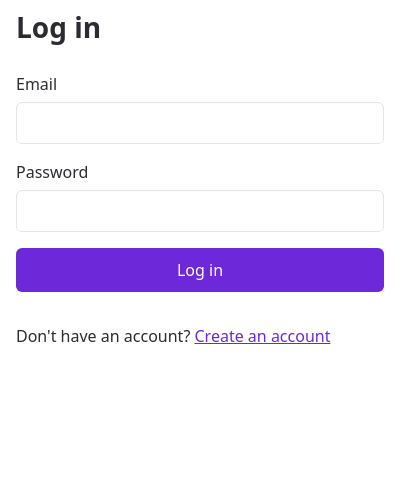
LoginPage › shows the backend error message and a resend link when login fails with an unverified email
Type "test@example.com" into the field labelled "Email".
click(200, 123); type("test@example.com")  # box [16,102,384,144]
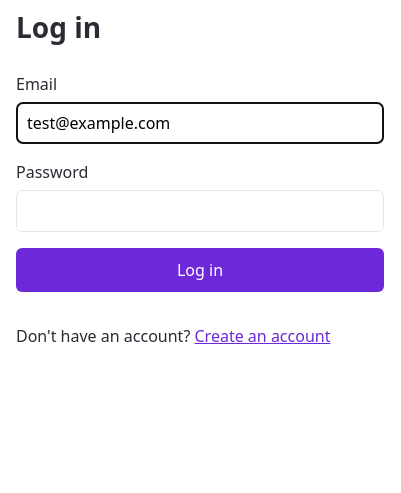
Type "password123" into the password field labelled "Password".
click(200, 211); type("password123")  # box [16,190,384,232]
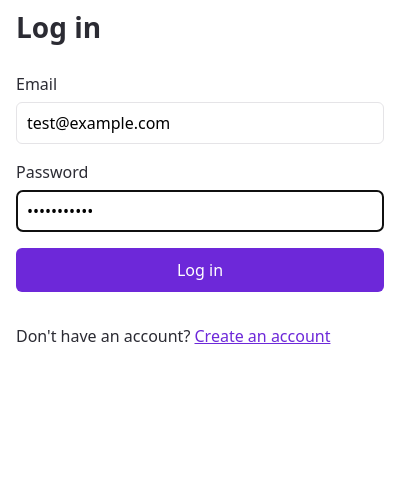
Click the button "Log in".
click(200, 270)  # box [16,248,384,292]
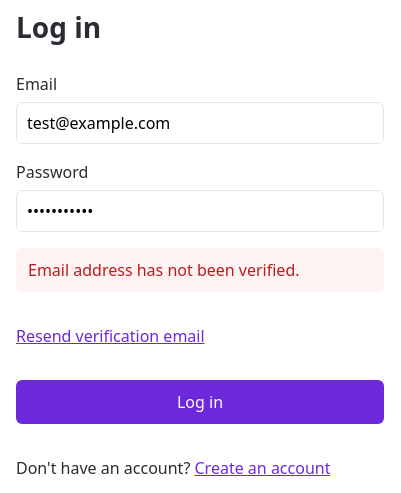
Expected: the text "Email address has not been verified." is shown, [16,248,384,292]
Expected: the link "Resend verification email" is shown, [16,325,205,347]
